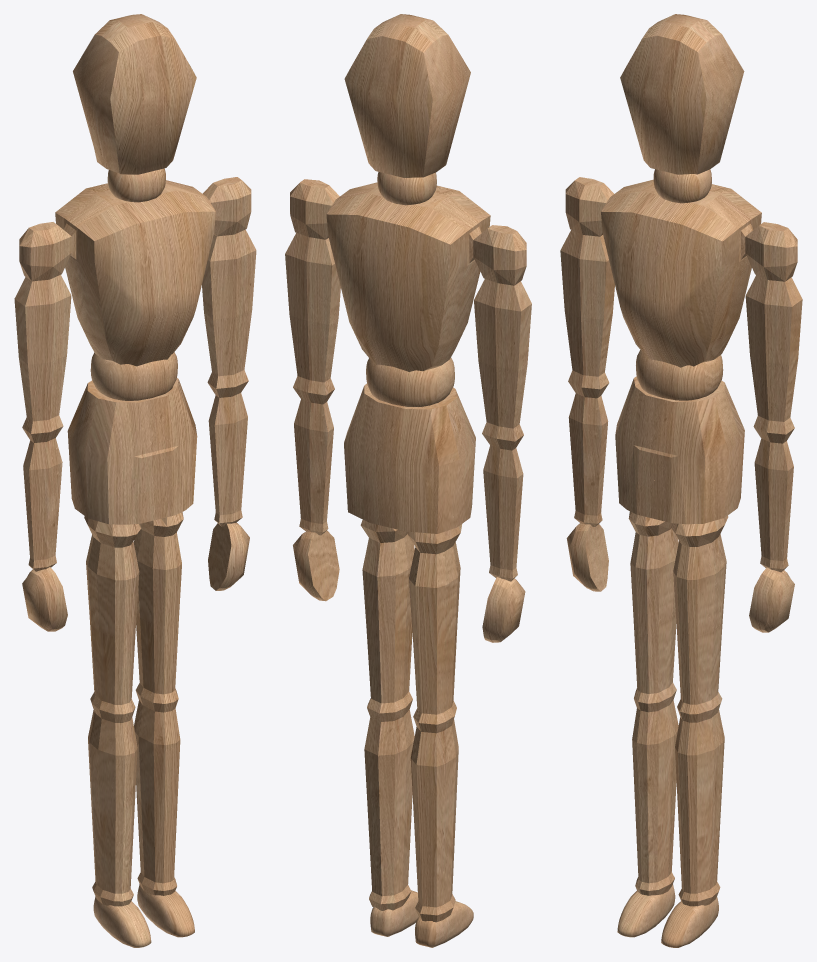
File: wood dall ss.fbx
3 views of the same model, side by side, from view 1: azimuth 30°, elevation 25°; view 2: azimuth 150°, elevation 25°; view 3: azimuth 330°, elevation 25° (orthographic). The views are drawn at different scales.
Visible parts, largest first — view 1: Box007; view 2: Box007; view 3: Box007.
Part boxes in pixels (x1,y1,x2,y2): Box007: (14,14,256,947); Box007: (285,14,531,947); Box007: (560,14,802,947).
Size of the model in its own units: 166 by 78.52 by 613.
Materials: 1 (1 with a texture image).
